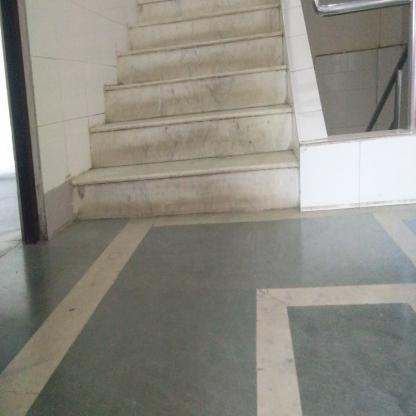stairs: (140, 10, 284, 224)
